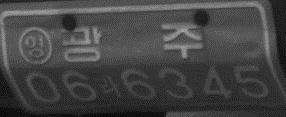0: (25, 72, 61, 105)
3: (159, 66, 194, 100)
4: (200, 67, 232, 98)
5: (233, 65, 268, 99)
6: (121, 68, 157, 101), (62, 70, 96, 102)
광주_D: (59, 23, 203, 62)
라: (96, 74, 119, 97)
영: (16, 26, 53, 65)
